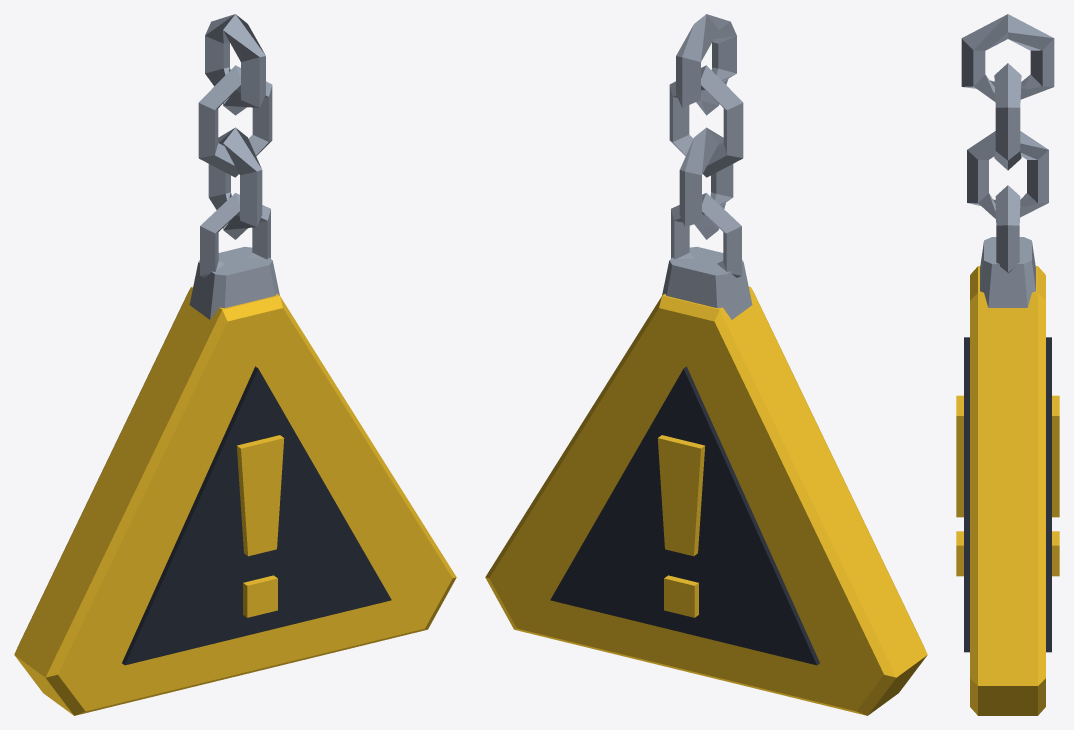
The model's file is HazardSign.fbx.
The picture shows the model from 3 angles, left to right: view 1: azimuth 30°, elevation 25°; view 2: azimuth 150°, elevation 25°; view 3: azimuth 270°, elevation 25°; orthographic projection. The views are drawn at different scales.
Visible parts, largest first — view 1: Body_Hazard_Yellow, Body_Hazard_Dark, Chain, Body_Chain_Metal; view 2: Body_Hazard_Yellow, Body_Hazard_Dark, Chain, Body_Chain_Metal; view 3: Body_Hazard_Yellow, Chain, Body_Chain_Metal, Body_Hazard_Dark.
Boxes of the visible parts, x1,y1,x2,y2 form: Body_Hazard_Yellow: (14,286,456,715); Body_Hazard_Dark: (122,366,391,665); Chain: (198,14,272,239); Body_Chain_Metal: (189,193,279,319); Body_Hazard_Yellow: (485,286,927,715); Body_Hazard_Dark: (550,366,819,665); Chain: (669,14,743,239); Body_Chain_Metal: (662,193,752,319); Body_Hazard_Yellow: (956,266,1059,715); Chain: (961,14,1054,218); Body_Chain_Metal: (980,185,1035,307); Body_Hazard_Dark: (964,337,1051,652).
Size of the model in its own units: 0.228 by 0.3429 by 0.052.
